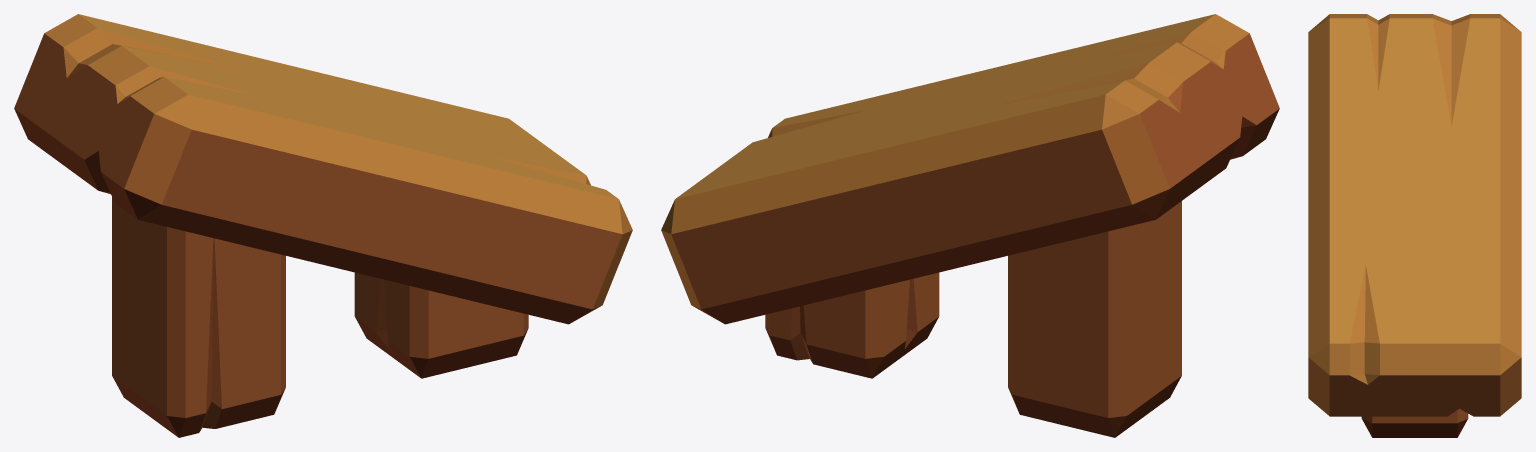
File: m_deco_handrail_diagonal.FBX
3 views of the same model, side by side, from view 1: azimuth 30°, elevation 25°; view 2: azimuth 150°, elevation 25°; view 3: azimuth 270°, elevation 25° (orthographic). The views are drawn at different scales.
Visible parts, largest first — view 1: m_deco_handrail_diagonal; view 2: m_deco_handrail_diagonal; view 3: m_deco_handrail_diagonal.
Boxes of the visible parts, <box> form: m_deco_handrail_diagonal: <box>14,14,632,437</box>; m_deco_handrail_diagonal: <box>661,14,1279,437</box>; m_deco_handrail_diagonal: <box>1308,14,1521,437</box>.
Bounding box in the file's own units: 2.14 × 1.48 × 1.
